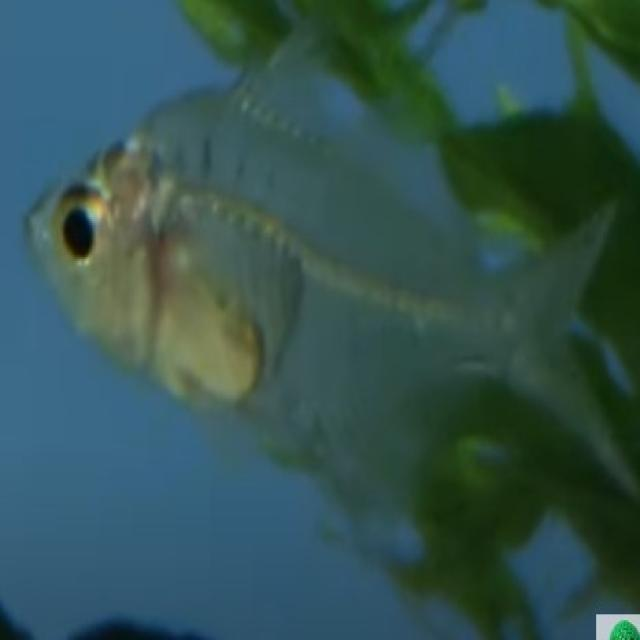Glass-Perchlet: (0, 11, 640, 592)
